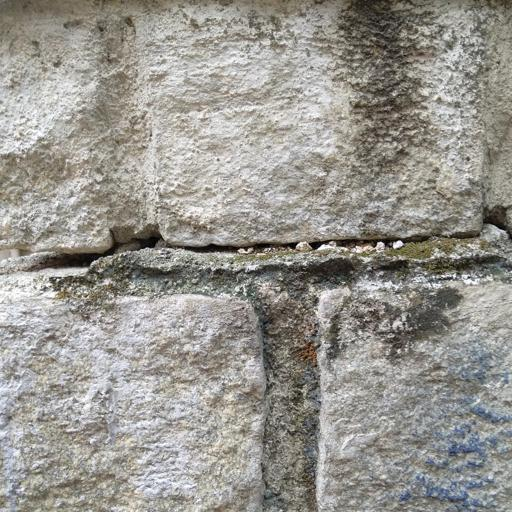major_crack: (23, 196, 512, 309)
